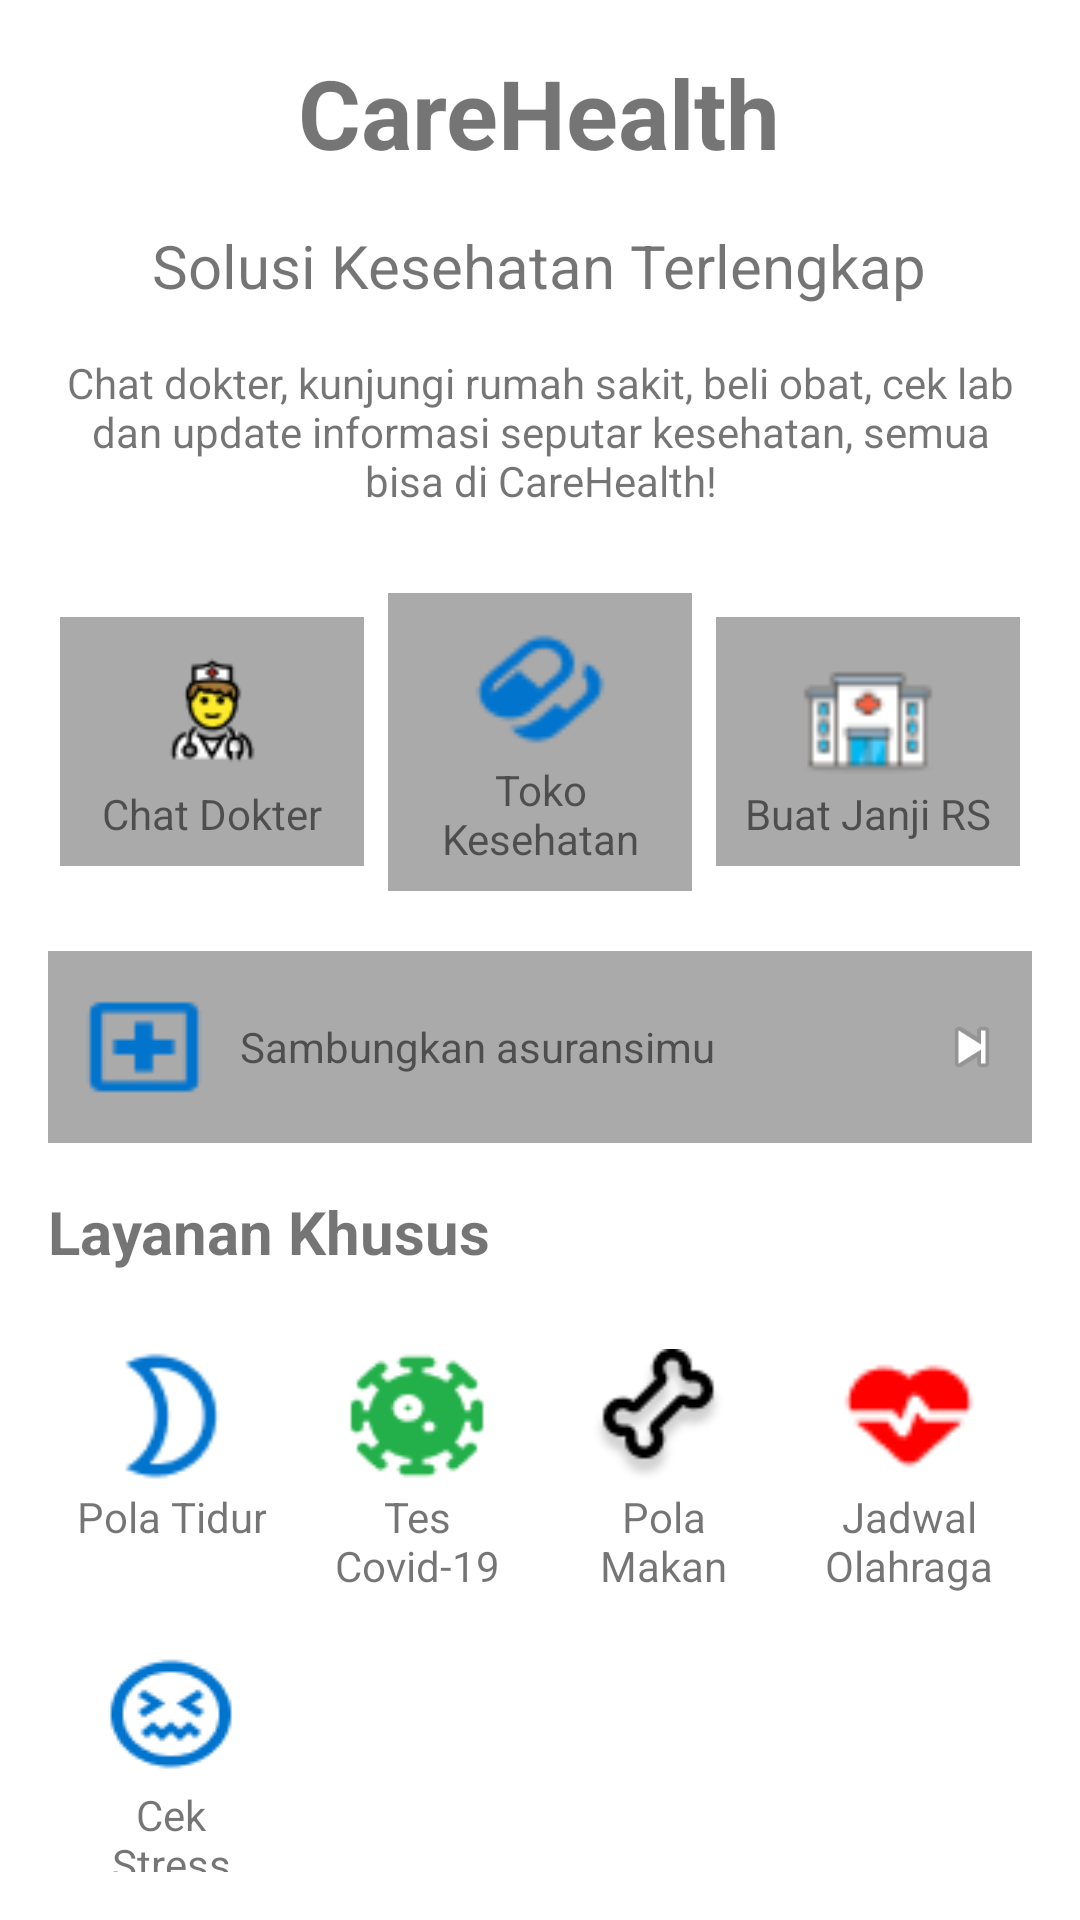

Icon click points for this 1080*1920 phone screenshot, format (x=x, y=y):
next: (x=972, y=1047)
